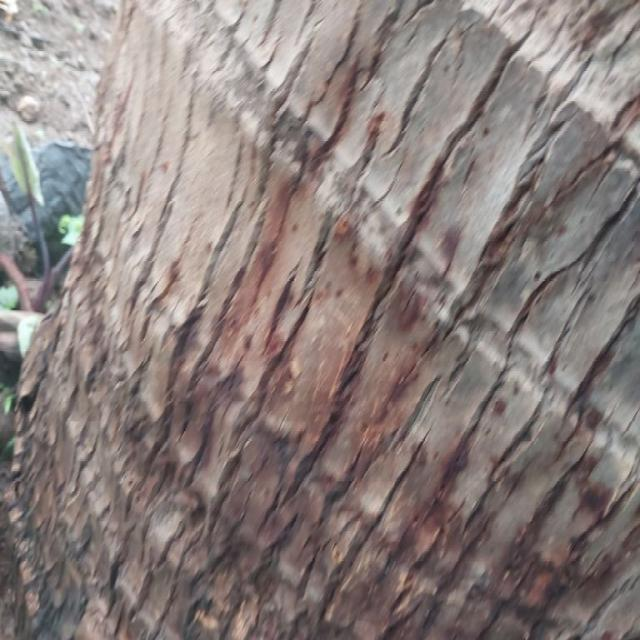stembleeding: (152, 92, 596, 622)
